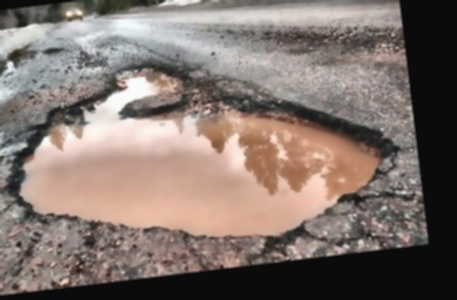pothole: (0, 32, 410, 272)
